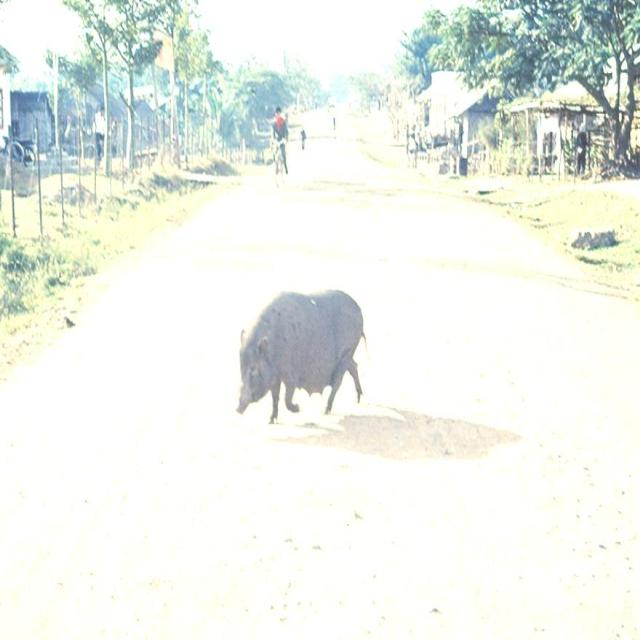pig: (238, 290, 364, 424)
